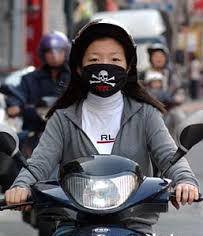OK: (85, 52, 126, 93)
